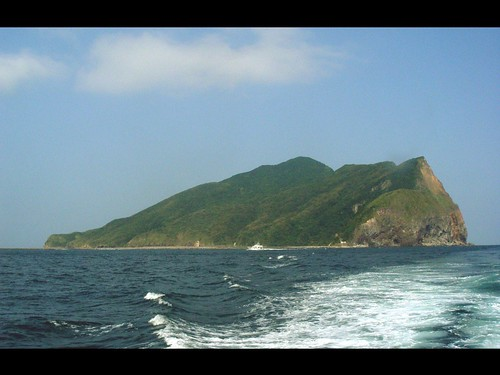turtleIsland: (56, 145, 471, 247)
